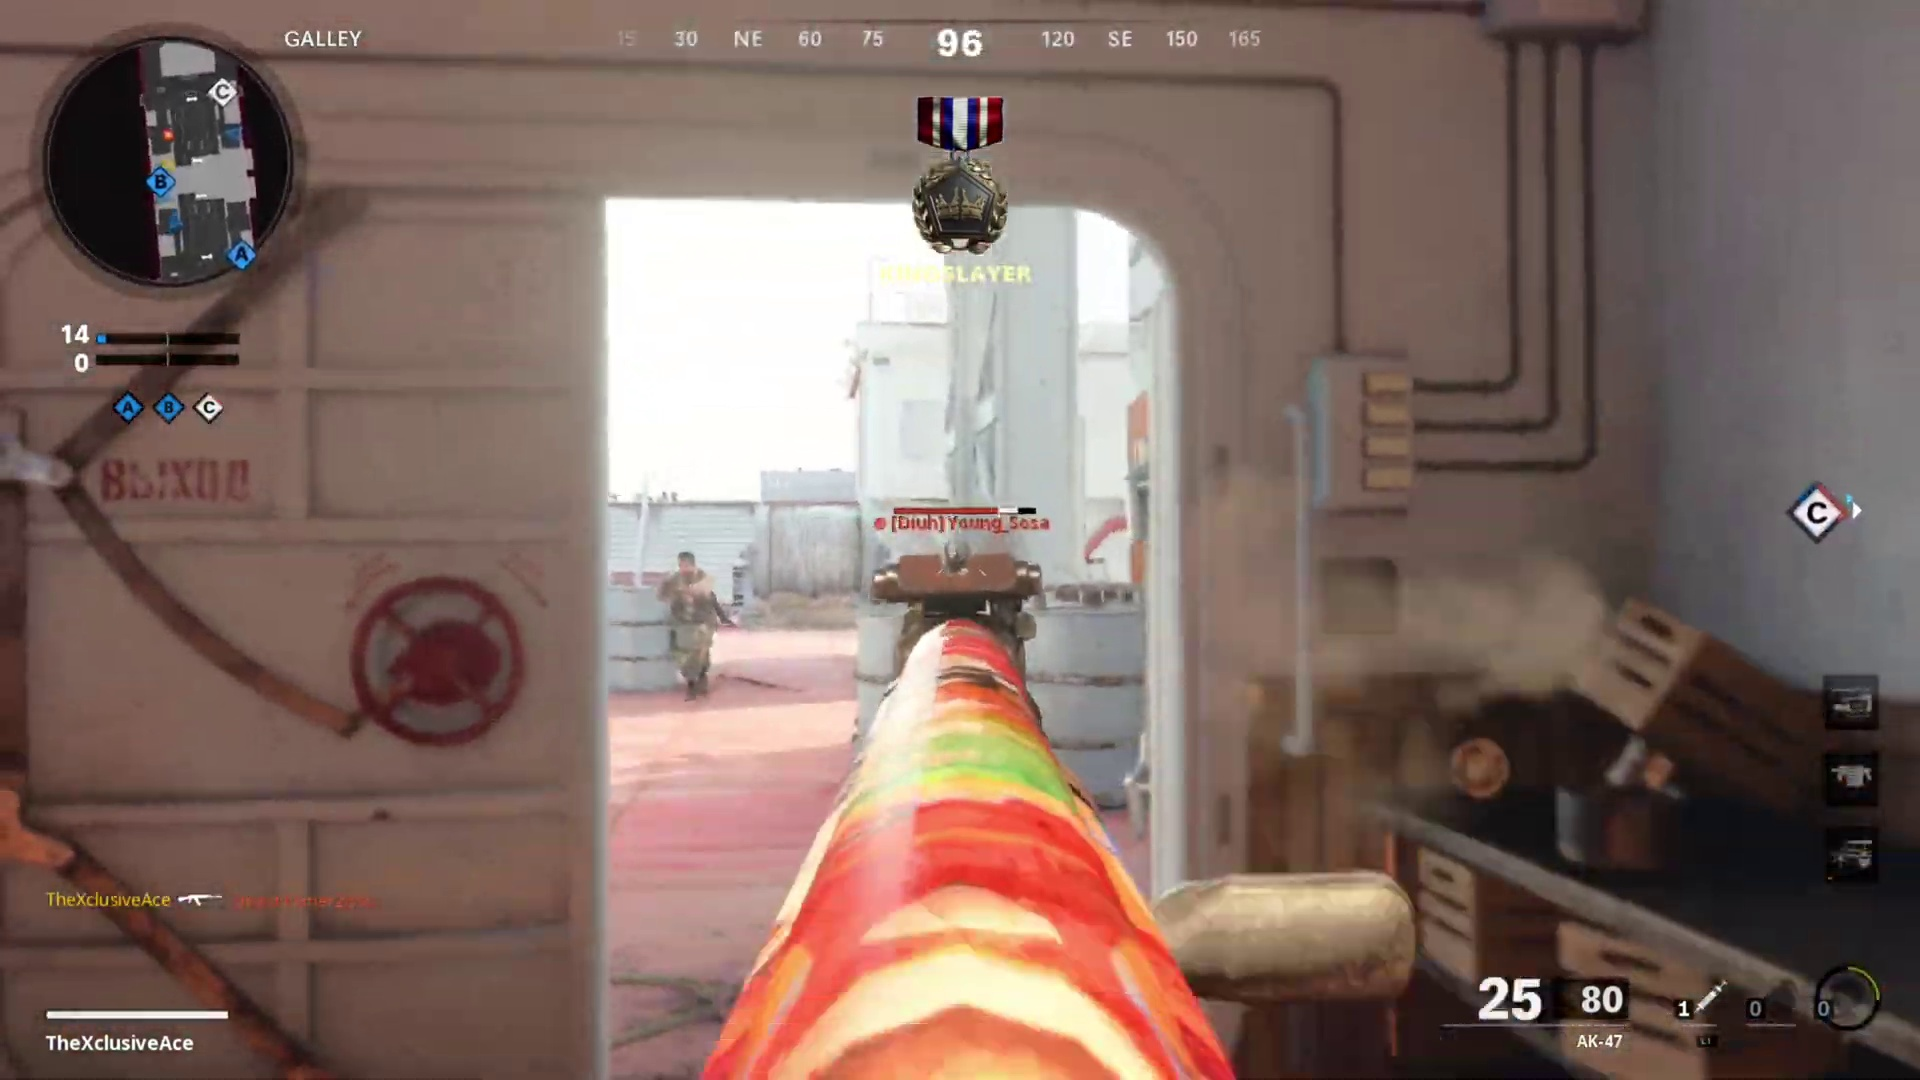head: (675, 545, 697, 584)
person: (656, 547, 725, 690)
